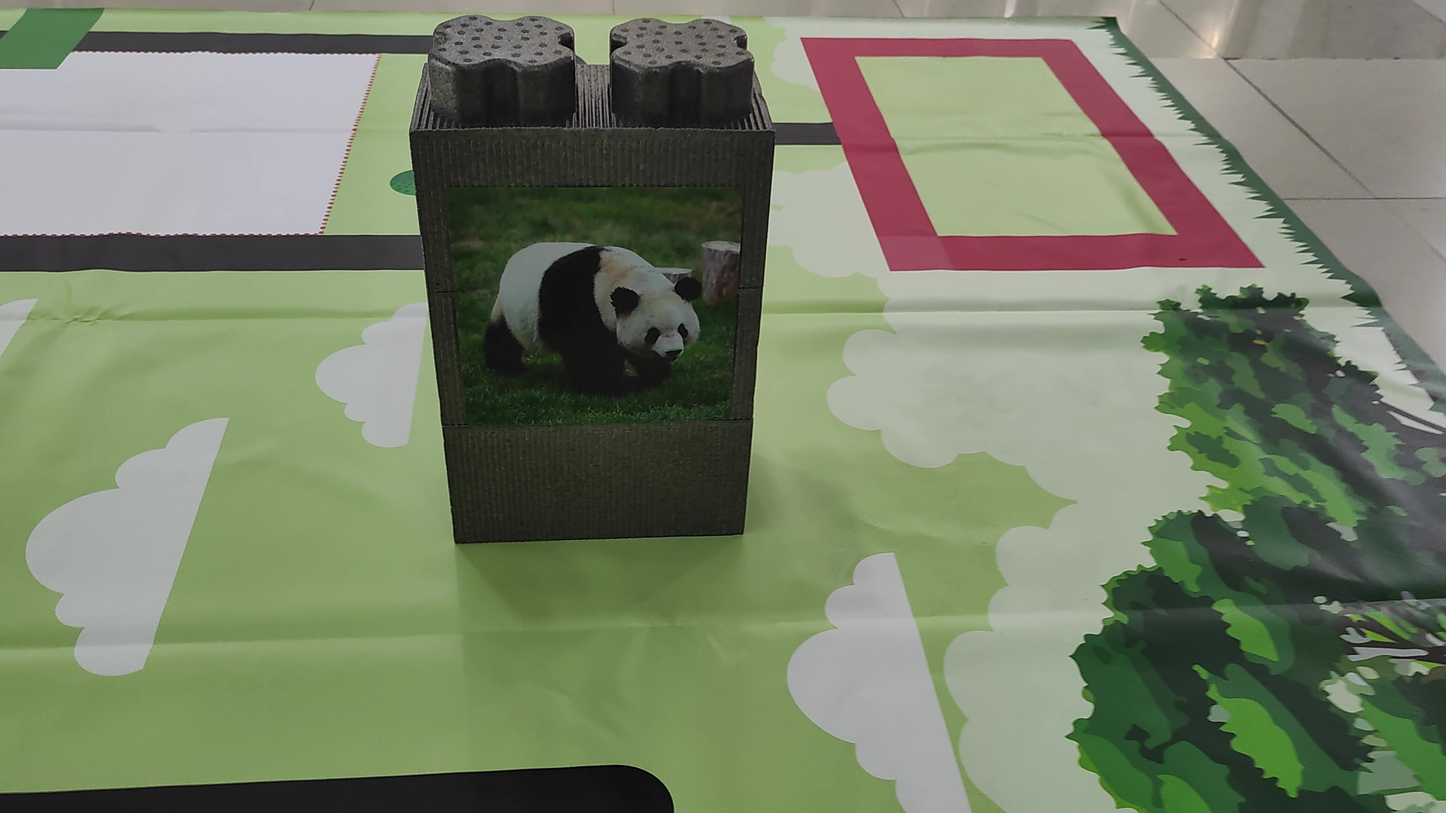panda: (454, 196, 707, 406)
